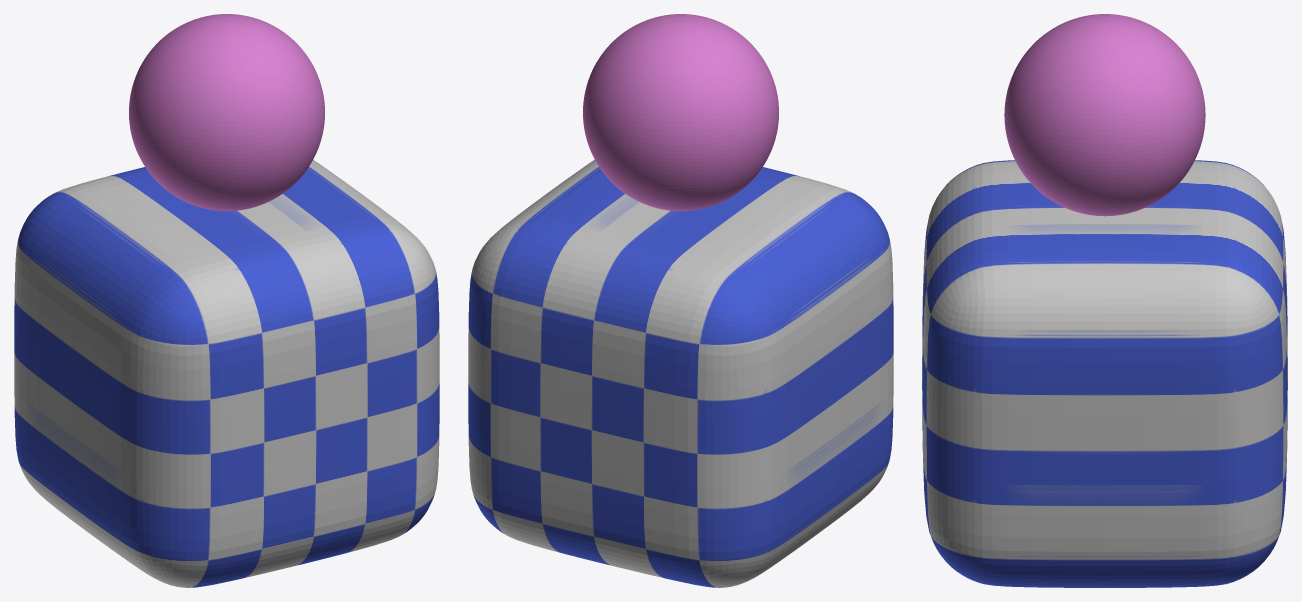
File: BOD3_BMC0_BCC13_BPT4_FRC0_HEA0_HMC10_HCC0_HPT0_ELT0_ERT0_ELL0_ERL0_AP0_AAL0_AAR0_BEK0.fbx
The picture shows the model from 3 angles, left to right: view 1: azimuth 30°, elevation 25°; view 2: azimuth 150°, elevation 25°; view 3: azimuth 270°, elevation 25°; orthographic projection. The views are drawn at different scales.
Visible parts, largest first — view 1: Body, Head; view 2: Body, Head; view 3: Body, Head.
Boxes of the visible parts, bbox=[...] form: Body: bbox=[14, 159, 439, 587]; Head: bbox=[129, 14, 324, 211]; Body: bbox=[468, 159, 893, 587]; Head: bbox=[583, 14, 778, 211]; Body: bbox=[922, 160, 1287, 587]; Head: bbox=[1004, 14, 1205, 216].
Bounding box in the file's own units: 89.79 × 140 × 89.79.
Materials: 2 (2 with a texture image).
